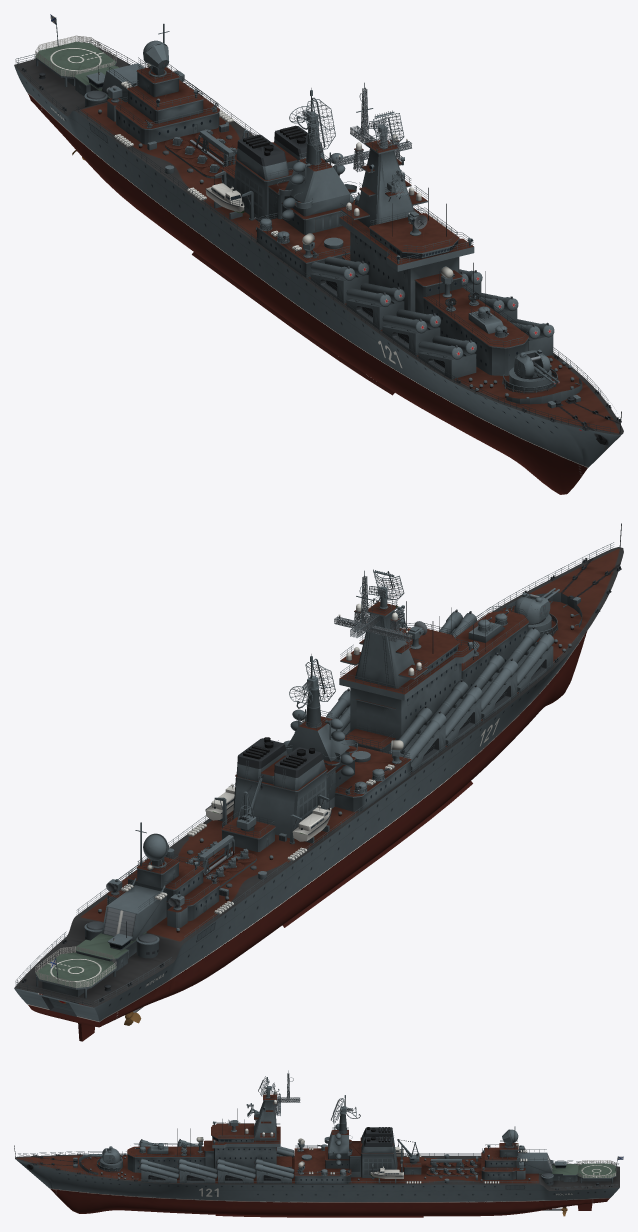
Rendered from slava_class_cruiser.glb.
3 views of the same model, one above another, from view 1: azimuth 30°, elevation 25°; view 2: azimuth 150°, elevation 25°; view 3: azimuth 270°, elevation 25° (orthographic). The views are drawn at different scales.
Parts seen in each view (by area): view 1: Hull, Superstructure, Launchers, Weapons_VLS, TopPair_Radar, Boats, Fregat_Radar, AK130_Turret, TopDome; view 2: Superstructure, Hull, Launchers, Weapons_VLS, Boats, TopPair_Radar, AK130_Turret, TopDome, Fregat_Radar; view 3: Hull, Superstructure, Launchers, Weapons_VLS, Boats, TopPair_Radar, AK130_Turret, TopDome.
Part boxes in pixels (x1=…): Hull: x1=14, y1=40, x2=623, y2=494; Superstructure: x1=21, y1=14, x2=574, y2=397; Launchers: x1=310, y1=256, x2=554, y2=379; Weapons_VLS: x1=162, y1=129, x2=237, y2=178; TopPair_Radar: x1=289, y1=88, x2=335, y2=151; Boats: x1=205, y1=183, x2=244, y2=219; Fregat_Radar: x1=368, y1=110, x2=404, y2=147; AK130_Turret: x1=514, y1=349, x2=550, y2=379; TopDome: x1=143, y1=40, x2=169, y2=77; Superstructure: x1=21, y1=570, x2=574, y2=1001; Hull: x1=14, y1=523, x2=623, y2=1041; Launchers: x1=326, y1=609, x2=554, y2=772; Weapons_VLS: x1=165, y1=835, x2=266, y2=887; Boats: x1=205, y1=784, x2=331, y2=843; TopPair_Radar: x1=289, y1=654, x2=335, y2=708; AK130_Turret: x1=514, y1=592, x2=550, y2=624; TopDome: x1=143, y1=833, x2=168, y2=870; Fregat_Radar: x1=368, y1=569, x2=404, y2=603; Hull: x1=14, y1=1145, x2=619, y2=1217; Superstructure: x1=100, y1=1070, x2=623, y2=1189; Launchers: x1=139, y1=1139, x2=294, y2=1183; Weapons_VLS: x1=426, y1=1154, x2=478, y2=1183; Boats: x1=370, y1=1147, x2=403, y2=1182; TopPair_Radar: x1=331, y1=1095, x2=360, y2=1123; AK130_Turret: x1=102, y1=1146, x2=121, y2=1163; TopDome: x1=502, y1=1129, x2=518, y2=1148.
Size of the model in its own units: 20.75 by 48.65 by 188.
3 materials, 3 textured.
